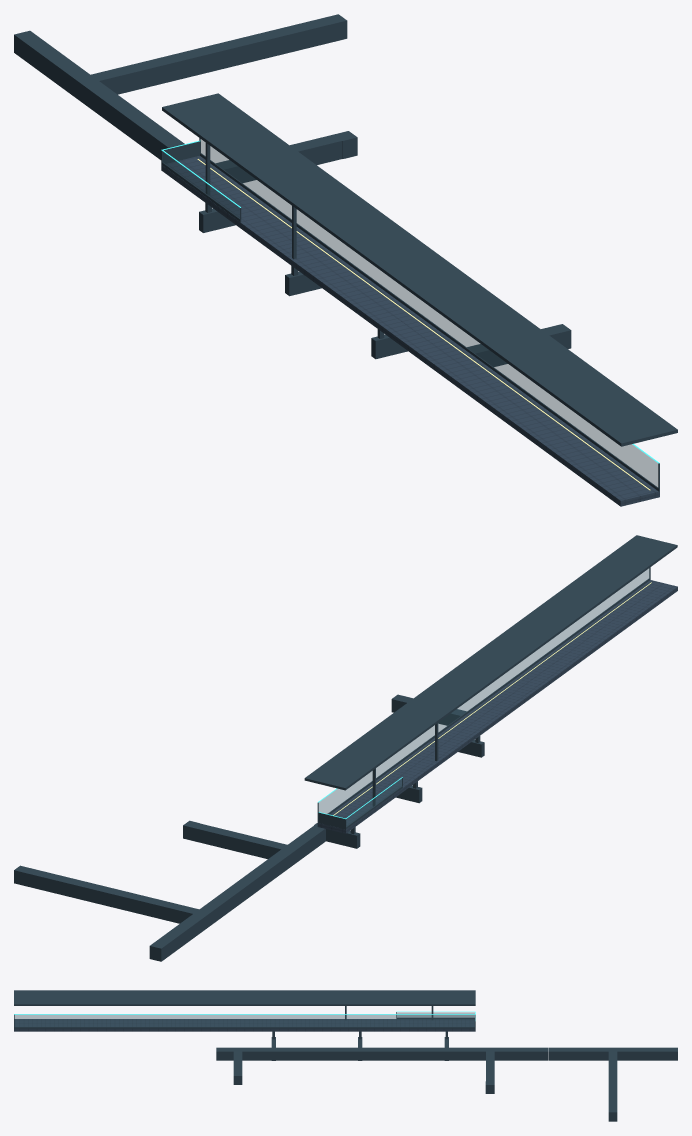
File: v02-transit-world-01-03-05.glb
3 views of the same model, one above another, from view 1: azimuth 30°, elevation 25°; view 2: azimuth 150°, elevation 25°; view 3: azimuth 270°, elevation 25° (orthographic). The views are drawn at different scales.
Parts seen in each view (by area): view 1: v02-transit-world-01-03-05; view 2: v02-transit-world-01-03-05; view 3: v02-transit-world-01-03-05.
Part boxes in pixels (x1=…): v02-transit-world-01-03-05: x1=14, y1=14, x2=677, y2=506; v02-transit-world-01-03-05: x1=14, y1=535, x2=677, y2=961; v02-transit-world-01-03-05: x1=14, y1=990, x2=677, y2=1121.
Size of the model in its own units: 25.6 by 8.15 by 92.04.
Materials: 5 (1 with a texture image).
